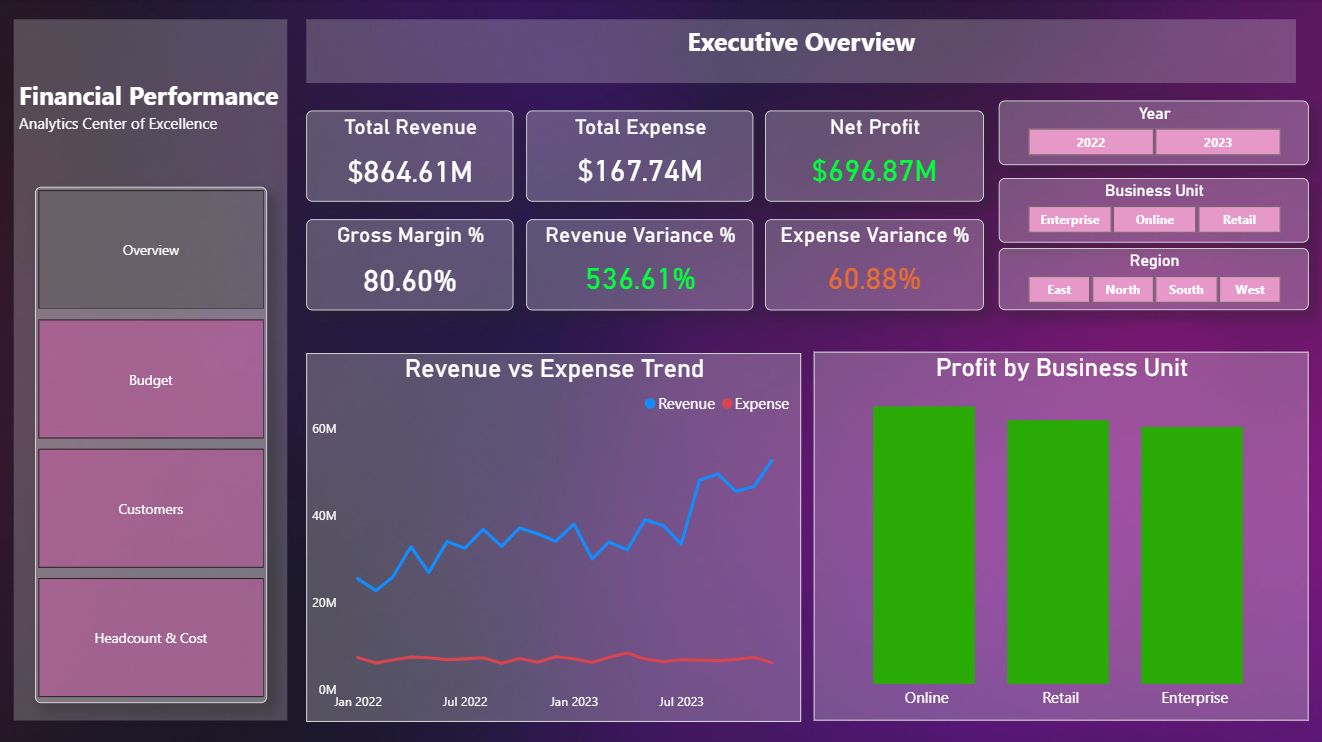

What the dashboard file says about the page in this screenshot:
{"tool":"powerbi","page":{"name":"Overview","canvas":[1280,720],"ordinal":0},"visuals":[{"type":"textbox","box":[13.3,20.5,264.2,676.8],"z":0},{"type":"textbox","box":[295.6,20.5,955.5,61.5],"z":1000},{"type":"card","title":"Total Revenue","fields":{"Values":["Financial_Transactions.Total Revenue"]},"box":[295.6,108.6,200.3,88.1],"z":2000},{"type":"card","title":"Total Expense","fields":{"Values":["Financial_Transactions.Total Expense"]},"box":[507.9,108.6,200.3,88.1],"z":3000},{"type":"card","title":"Net Profit","fields":{"Values":["Financial_Transactions.Total Profit"]},"box":[719,108.6,200.3,88.1],"z":4000},{"type":"card","title":"Gross Margin %","fields":{"Values":["Financial_Transactions.Gross Margin %"]},"box":[295.6,213.5,200.3,88.1],"z":5000},{"type":"card","title":"Revenue Variance %","fields":{"Values":["Budget.Revenue Variance %"]},"box":[507.9,213.5,200.3,88.1],"z":6000},{"type":"card","title":"Expense Variance %","fields":{"Values":["Budget.Expense Variance %"]},"box":[719,213.5,200.3,88.1],"z":7000},{"type":"lineChart","title":"Revenue vs Expense Trend","fields":{"Y":["Financial_Transactions.Total Revenue","Financial_Transactions.Total Expense"],"Category":["Financial_Transactions.transaction_date.Variation.Date Hierarchy.Year","Financial_Transactions.transaction_date.Variation.Date Hierarchy.Month"]},"box":[295.6,341.4,477.8,355.9],"z":8000},{"type":"slicer","title":"Year","fields":{"Values":["Budget.year"]},"box":[933.8,98.9,317.3,62.7],"z":9000},{"type":"slicer","title":"Business Unit","fields":{"Values":["Financial_Transactions.business_unit"]},"box":[933.8,177.3,317.3,62.7],"z":10000},{"type":"slicer","title":"Region","fields":{"Values":["Customers.region"]},"box":[933.8,255.8,317.3,60.3],"z":11000},{"type":"clusteredColumnChart","title":"Profit by Business Unit","fields":{"Category":["Financial_Transactions.business_unit"],"Y":["Financial_Transactions.Total Profit"]},"box":[785.4,341.4,477.8,355.9],"z":12000},{"type":"pageNavigator","box":[33.8,182.2,224.4,498.3],"z":13000}]}

Visuals, with their boxes in screenshot pixels (x1, y1, x2, y2), scaled from the page's 1280x720 canvas onto the 1322x742 screenshot:
textbox: left=14, top=21, right=287, bottom=719
textbox: left=305, top=21, right=1292, bottom=85
"Total Revenue" card: left=305, top=112, right=512, bottom=203
"Total Expense" card: left=525, top=112, right=731, bottom=203
"Net Profit" card: left=743, top=112, right=949, bottom=203
"Gross Margin %" card: left=305, top=220, right=512, bottom=311
"Revenue Variance %" card: left=525, top=220, right=731, bottom=311
"Expense Variance %" card: left=743, top=220, right=949, bottom=311
"Revenue vs Expense Trend" lineChart: left=305, top=352, right=799, bottom=719
"Year" slicer: left=964, top=102, right=1292, bottom=167
"Business Unit" slicer: left=964, top=183, right=1292, bottom=247
"Region" slicer: left=964, top=264, right=1292, bottom=326
"Profit by Business Unit" clusteredColumnChart: left=811, top=352, right=1305, bottom=719
pageNavigator: left=35, top=188, right=267, bottom=701
